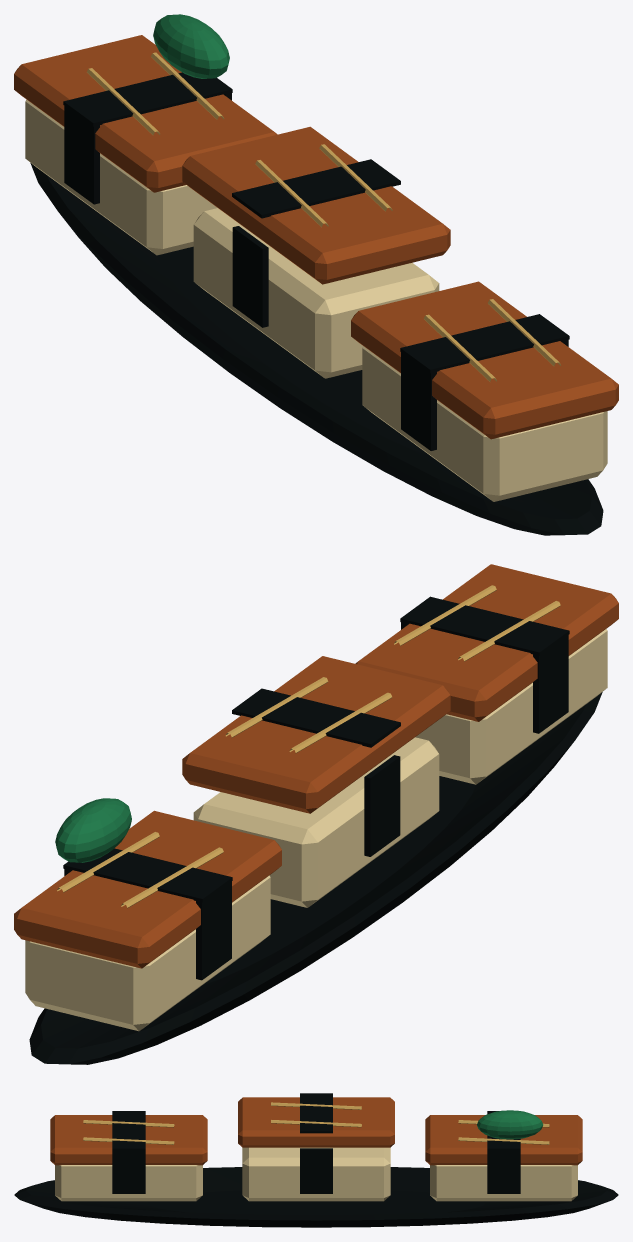
The model's file is panel_r5_restaurant_kitchen_food.fbx.
3 views of the same model, one above another, from view 1: azimuth 30°, elevation 25°; view 2: azimuth 150°, elevation 25°; view 3: azimuth 270°, elevation 25° (orthographic). The views are drawn at different scales.
Parts seen in each view (by area): view 1: Part_0; view 2: Part_0; view 3: Part_0.
Boxes of the visible parts, x1,y1,x2,y2 form: Part_0: [14, 14, 618, 535]; Part_0: [14, 564, 618, 1064]; Part_0: [14, 1093, 618, 1227].
Size of the model in its own units: 0.5 by 0.5 by 2.5.
